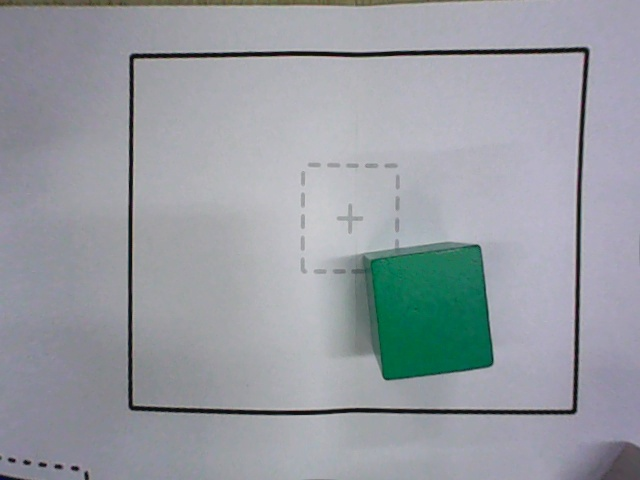upside of big cube: (371, 245, 493, 379)
